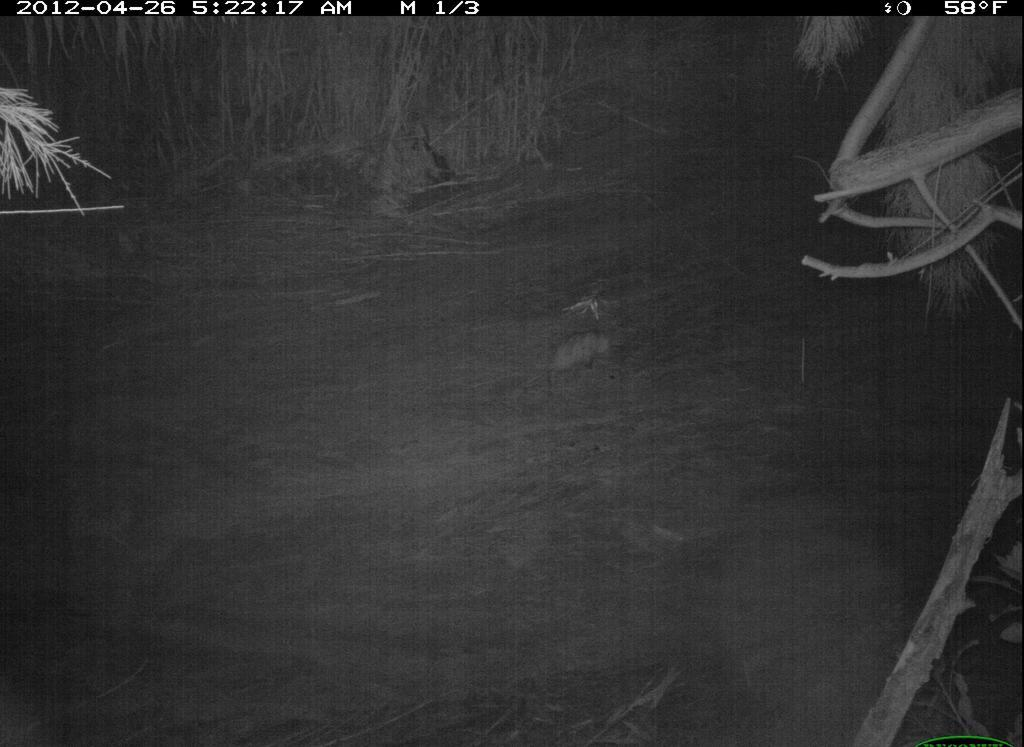opossum: (541, 322, 633, 415)
